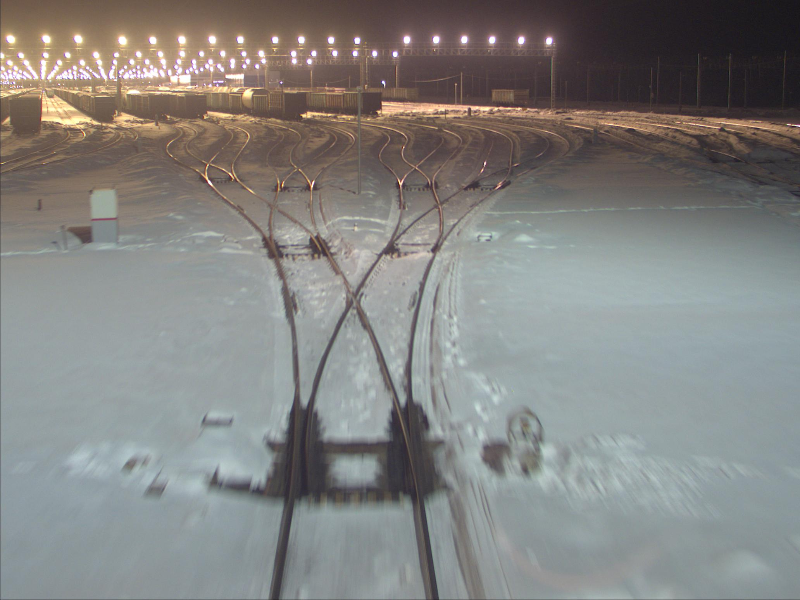left: (287, 285, 424, 491), (277, 165, 317, 192)
right: (260, 201, 329, 253), (387, 199, 450, 249), (198, 159, 243, 184), (394, 163, 437, 187)
